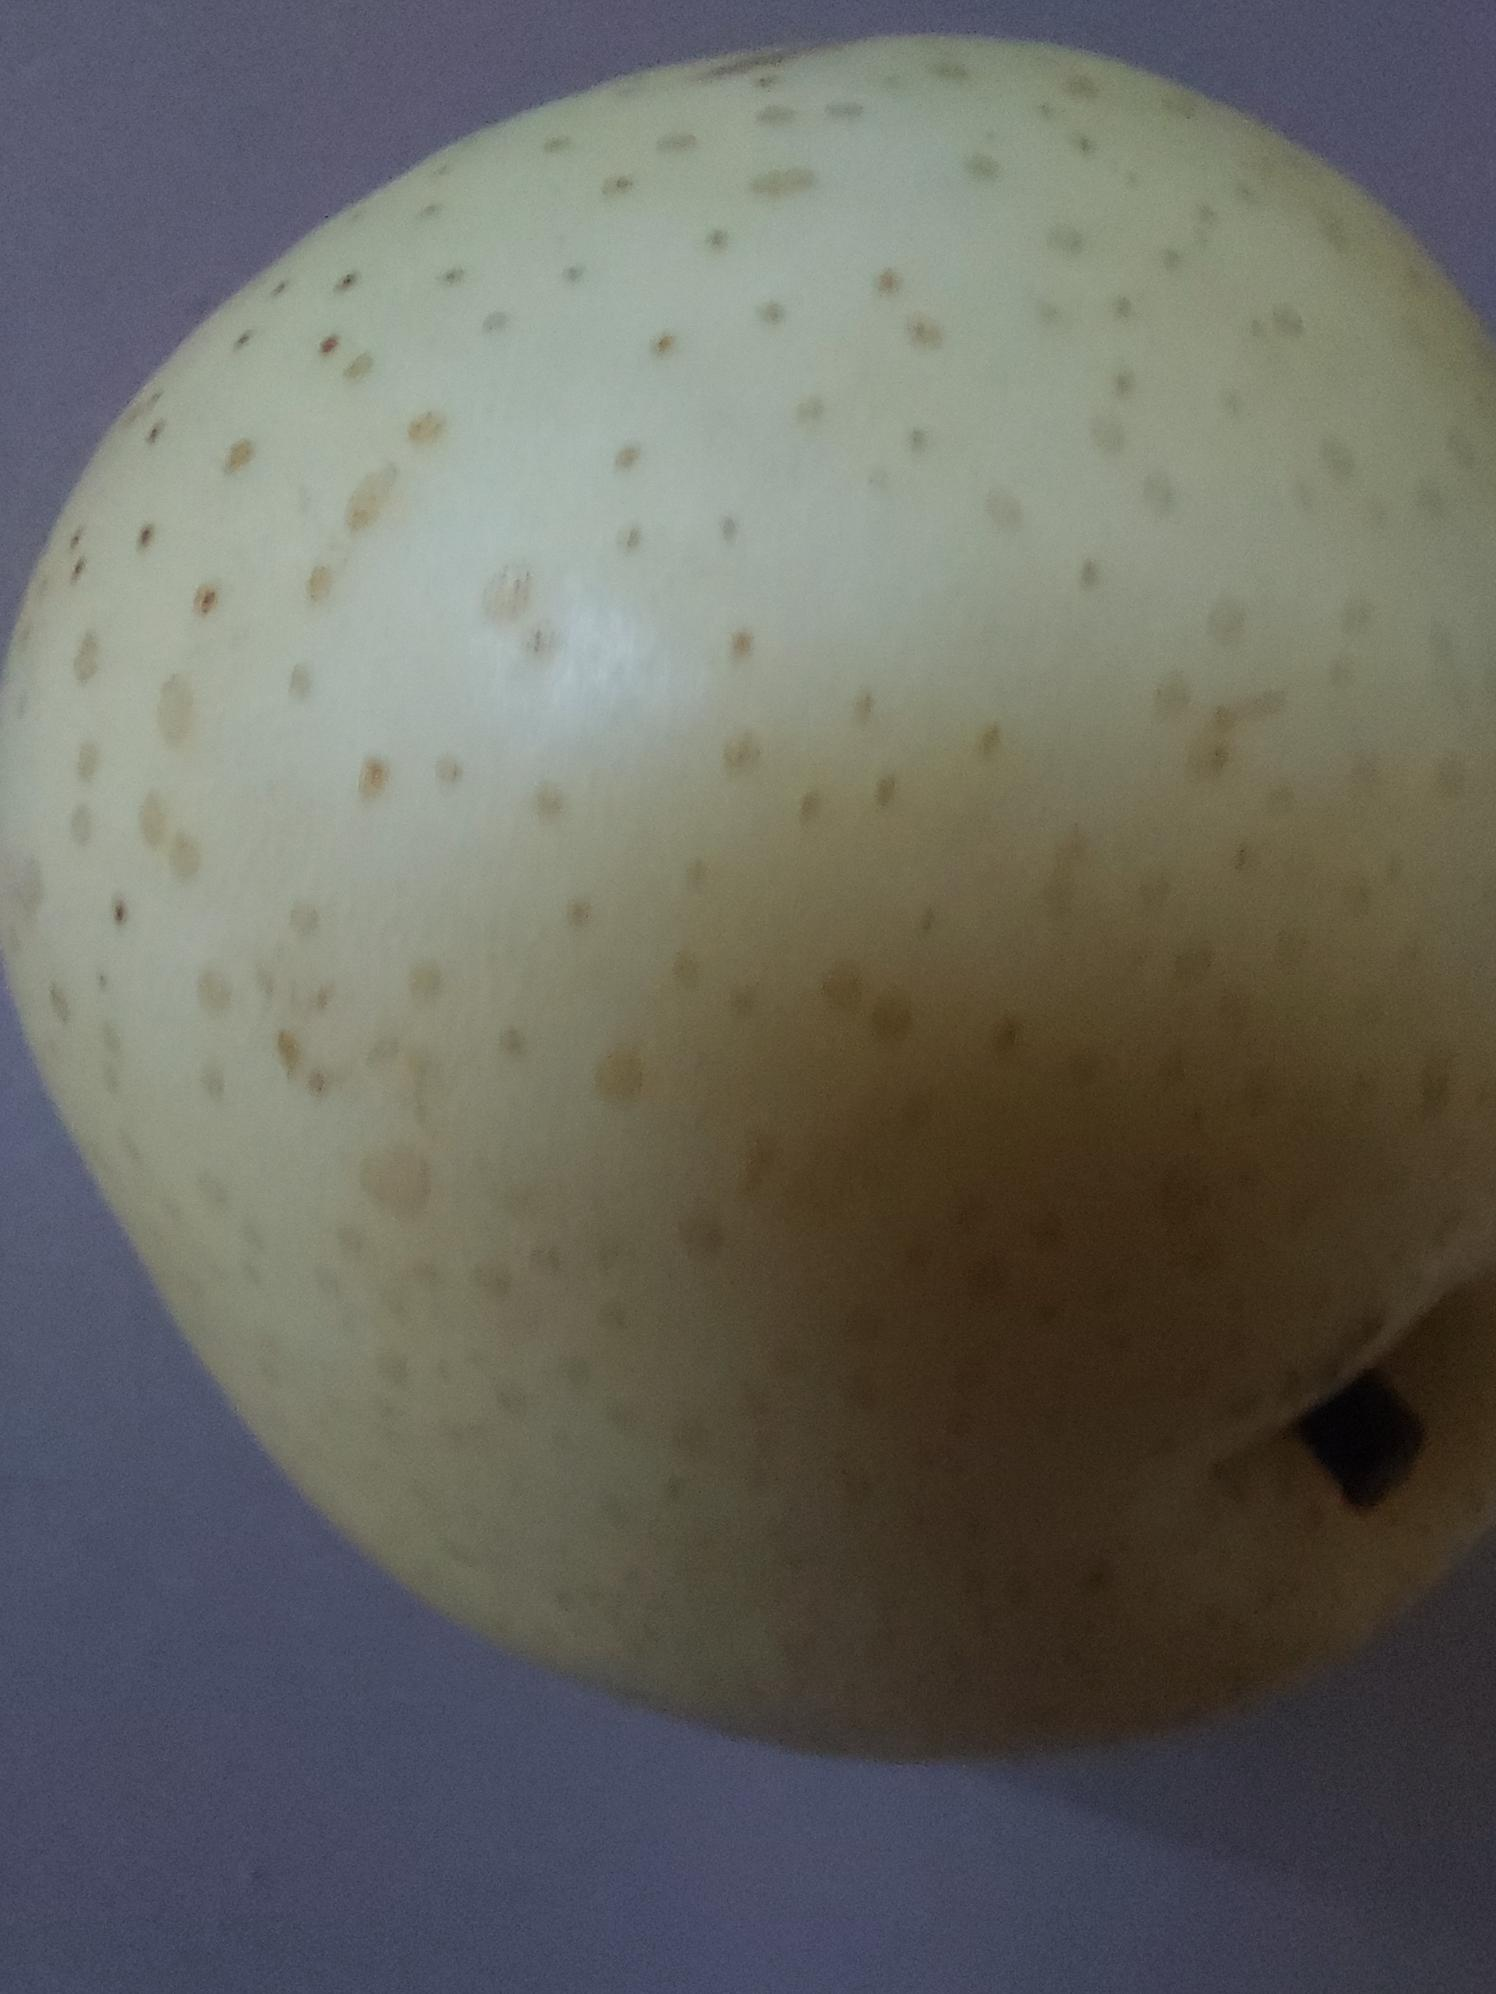Good Pear: (0, 8, 1496, 1790)
